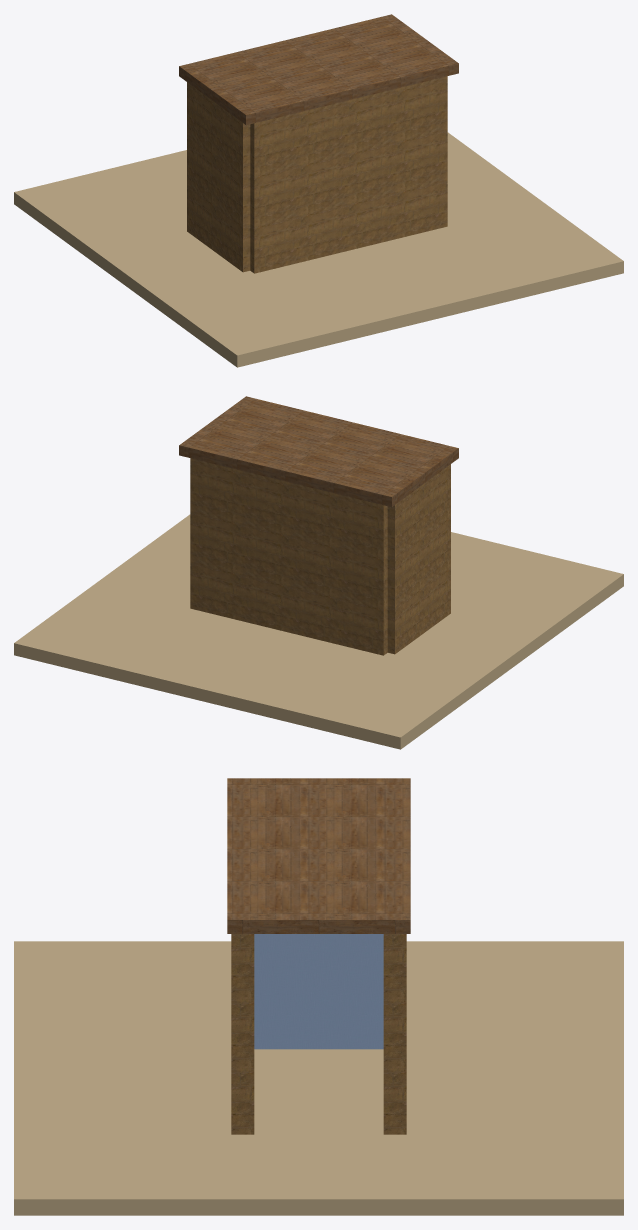
The model's file is templo_zorobabel.glb.
3 views of the same model, one above another, from view 1: azimuth 30°, elevation 25°; view 2: azimuth 150°, elevation 25°; view 3: azimuth 270°, elevation 25° (orthographic). The views are drawn at different scales.
Parts seen in each view (by area): view 1: Base ilustrativa, Parede do santuário.001, Teto, Parede posterior; view 2: Base ilustrativa, Parede do santuário, Teto, Parede posterior; view 3: Base ilustrativa, Teto, Divisão ilustrativa, Parede do santuário, Parede do santuário.001.
Boxes of the visible parts, x1,y1,x2,y2 form: Base ilustrativa: [14, 132, 623, 367]; Parede do santuário.001: [250, 76, 447, 273]; Teto: [179, 14, 458, 125]; Parede posterior: [187, 82, 250, 272]; Base ilustrativa: [14, 514, 623, 749]; Parede do santuário: [190, 458, 387, 655]; Teto: [179, 396, 458, 507]; Parede posterior: [387, 464, 450, 654]; Base ilustrativa: [14, 941, 623, 1215]; Teto: [227, 778, 410, 933]; Divisão ilustrativa: [254, 934, 383, 1049]; Parede do santuário: [383, 934, 406, 1134]; Parede do santuário.001: [231, 934, 254, 1134].
Size of the model in its own units: 8 by 3.44 by 8.
Materials: 4 (3 with a texture image).
